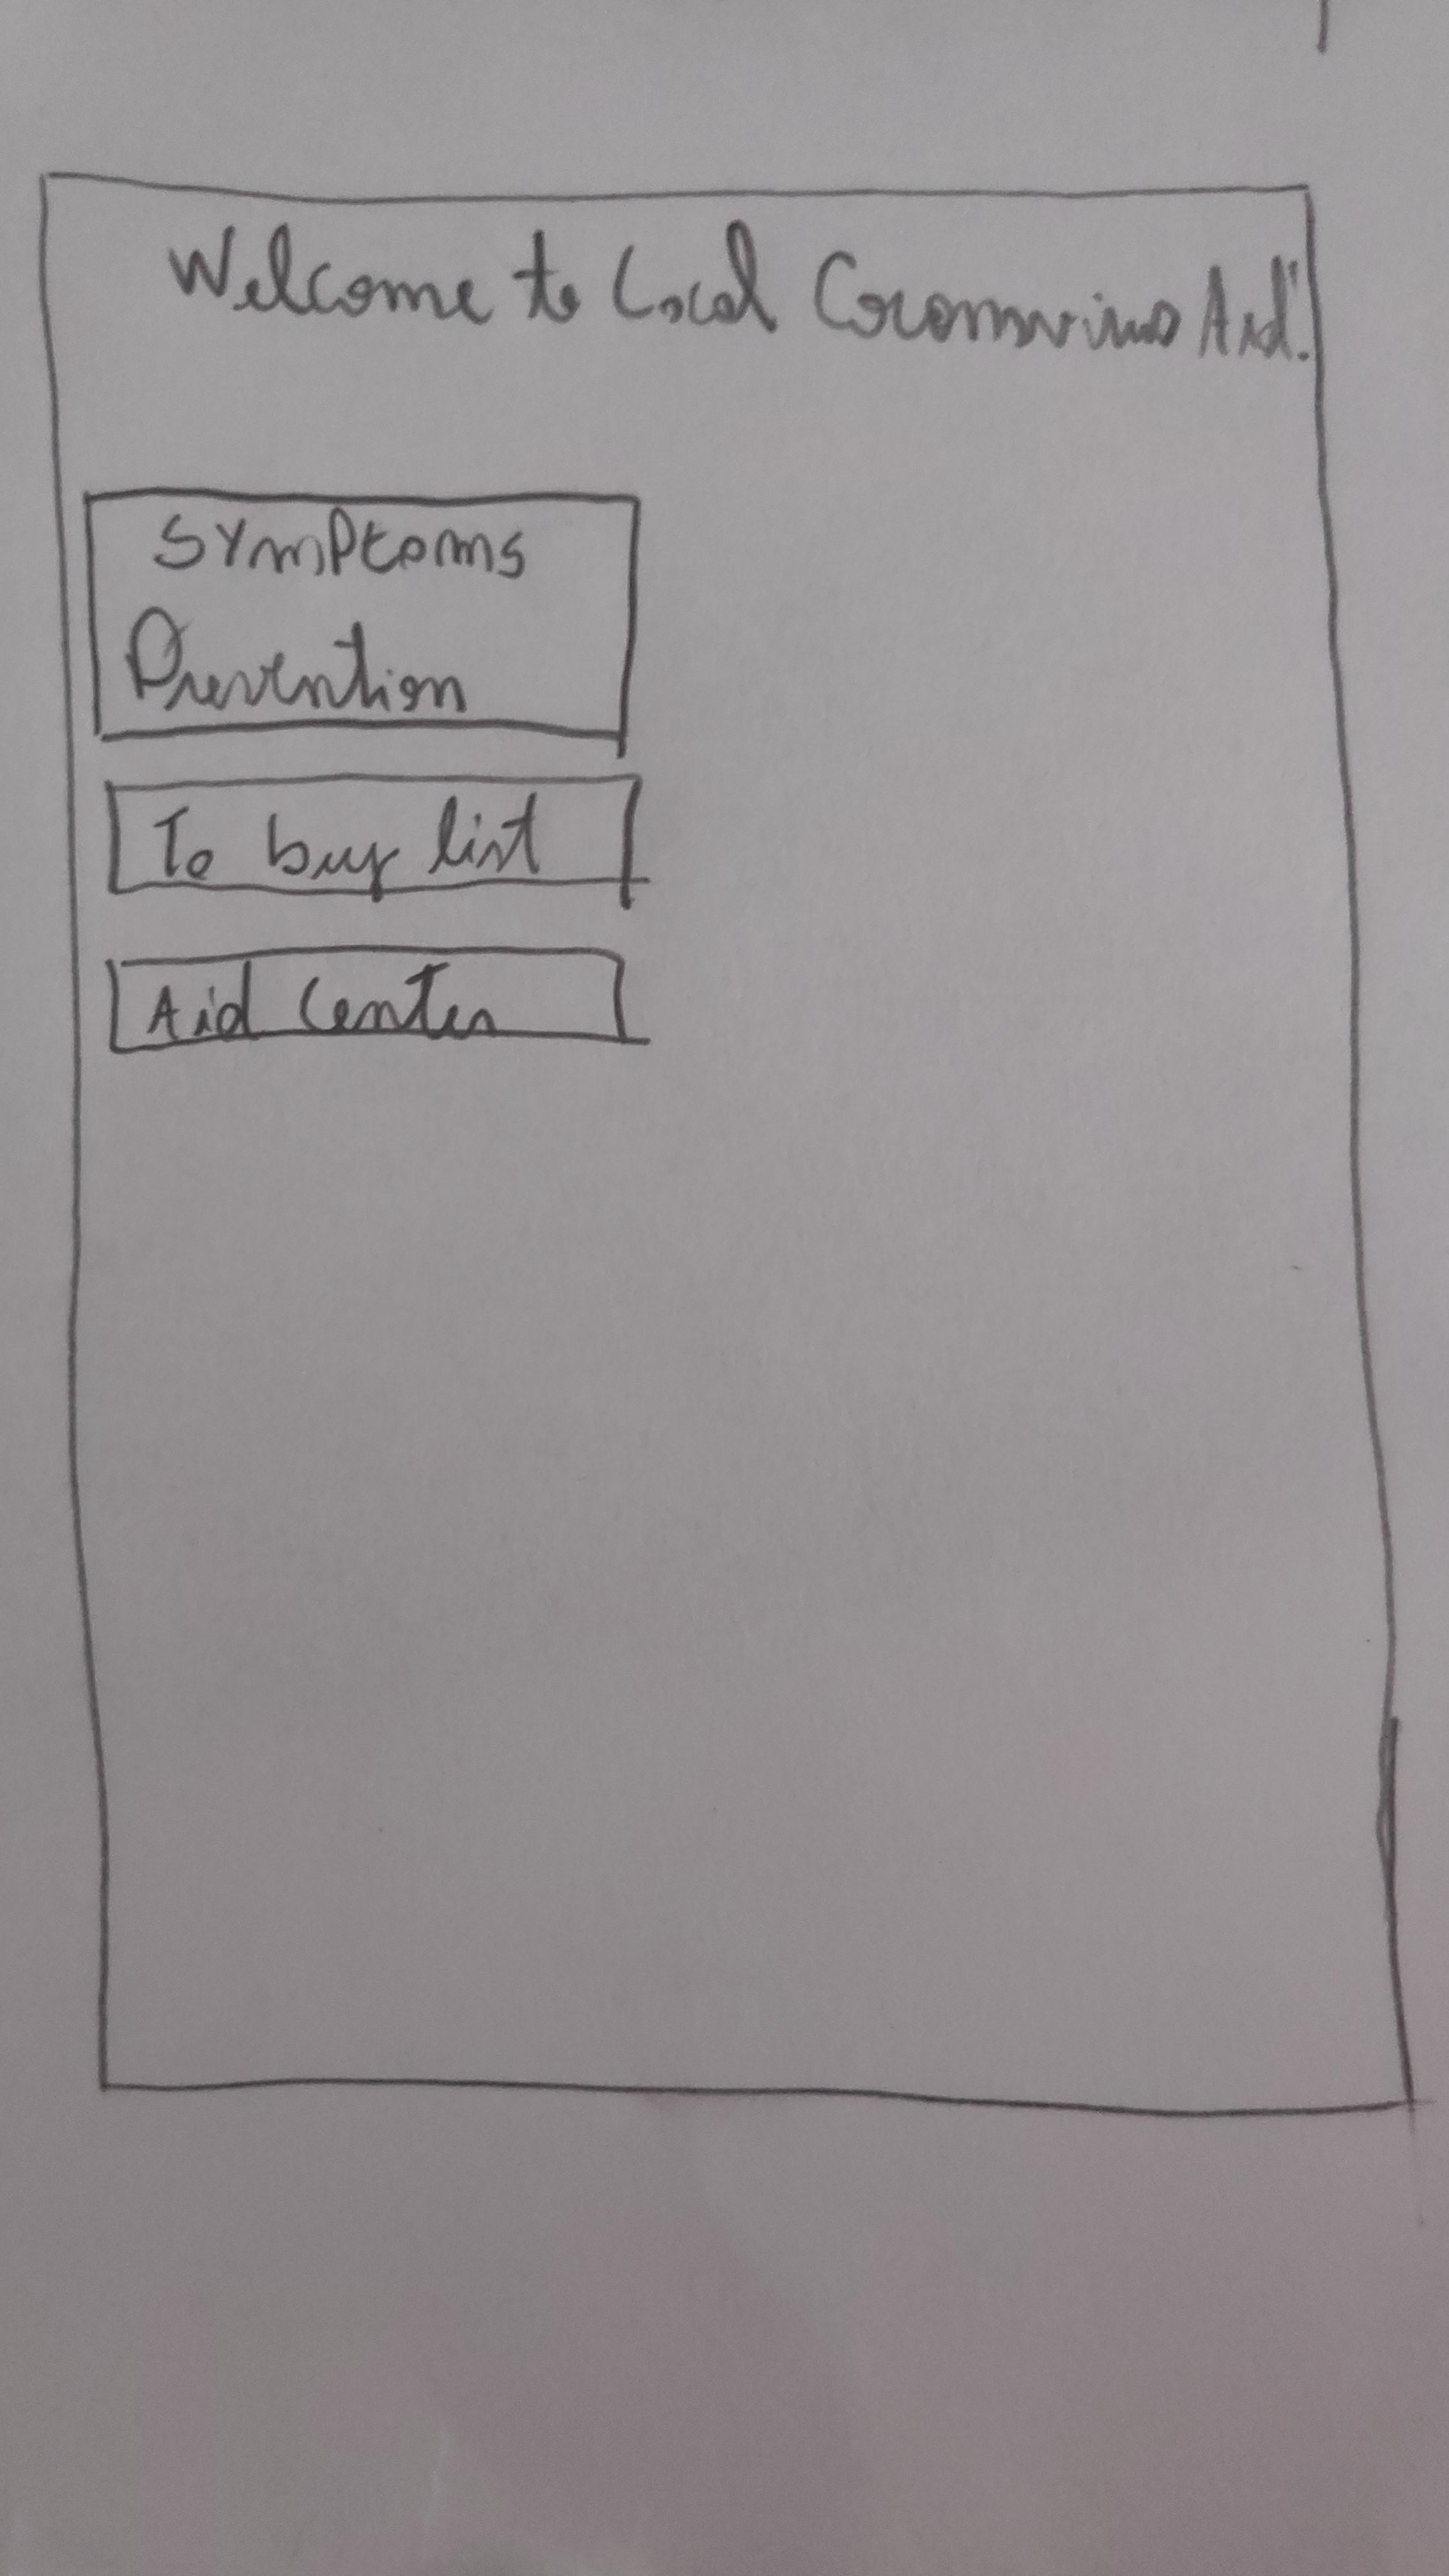Button: (87, 487, 642, 745), (104, 773, 642, 897), (108, 941, 625, 1058)
Label: (159, 223, 1313, 364)
Screen: (41, 173, 1414, 2116)
